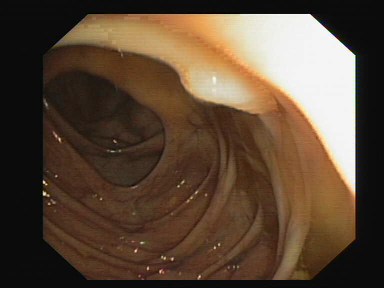polyp: (170, 44, 292, 128)
